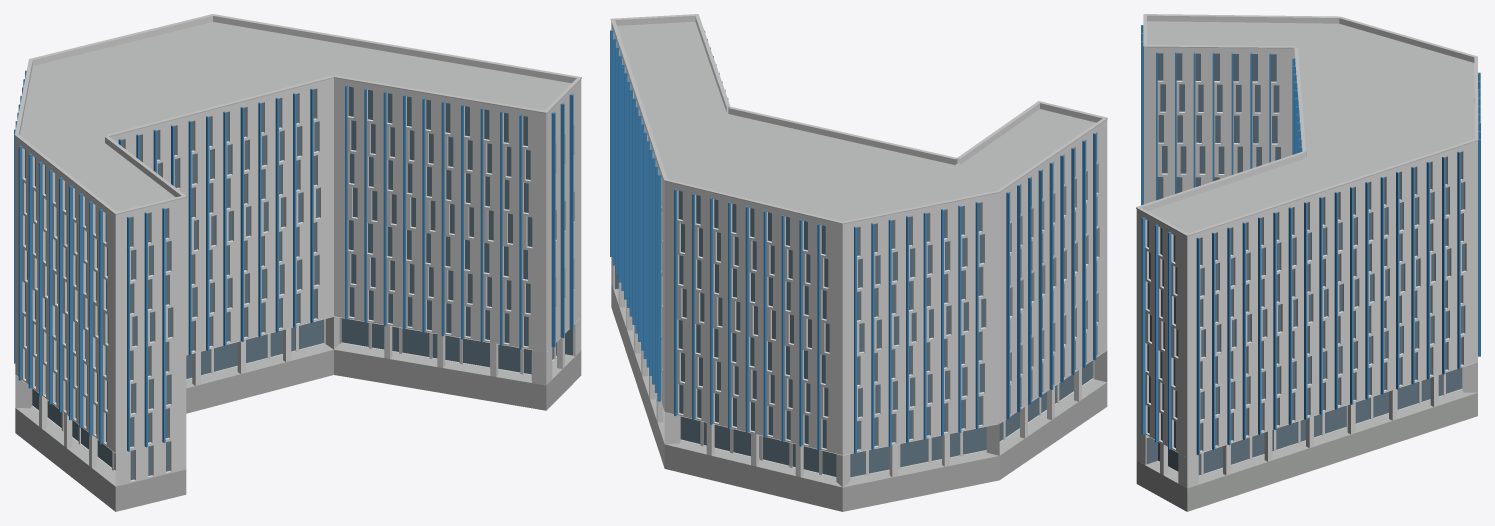
The picture shows the model from 3 angles, left to right: view 1: azimuth 30°, elevation 25°; view 2: azimuth 150°, elevation 25°; view 3: azimuth 270°, elevation 25°; orthographic projection. The views are drawn at different scales.
Visible parts, largest first — view 1: nadlGwanW4_2__wall, nadlGwanW4_2__roof, nadlGwanW4_2__louvre, nadlGwanW4_2__glass, nadlGwanW4_2__base, nadlGwanW4_2__parapet, nadlGwanW4_2__trim, nadlGwanW4_2__column; view 2: nadlGwanW4_2__wall, nadlGwanW4_2__roof, nadlGwanW4_2__louvre, nadlGwanW4_2__glass, nadlGwanW4_2__base, nadlGwanW4_2__parapet, nadlGwanW4_2__trim, nadlGwanW4_2__column; view 3: nadlGwanW4_2__wall, nadlGwanW4_2__roof, nadlGwanW4_2__louvre, nadlGwanW4_2__glass, nadlGwanW4_2__base, nadlGwanW4_2__parapet, nadlGwanW4_2__trim, nadlGwanW4_2__column.
Part boxes in pixels (x1,y1,x2,y2): nadlGwanW4_2__wall: (15, 83, 581, 486); nadlGwanW4_2__roof: (16, 22, 574, 486); nadlGwanW4_2__louvre: (14, 70, 573, 451); nadlGwanW4_2__glass: (25, 86, 573, 479); nadlGwanW4_2__base: (15, 349, 581, 511); nadlGwanW4_2__parapet: (15, 16, 581, 219); nadlGwanW4_2__trim: (14, 14, 581, 214); nadlGwanW4_2__column: (39, 325, 564, 467); nadlGwanW4_2__wall: (611, 25, 1107, 487); nadlGwanW4_2__roof: (614, 21, 1106, 487); nadlGwanW4_2__louvre: (610, 30, 1096, 453); nadlGwanW4_2__glass: (615, 190, 1097, 477); nadlGwanW4_2__base: (611, 283, 1107, 511); nadlGwanW4_2__parapet: (611, 16, 1107, 228); nadlGwanW4_2__trim: (610, 14, 1107, 224); nadlGwanW4_2__column: (618, 282, 1081, 477); nadlGwanW4_2__wall: (1136, 52, 1477, 488); nadlGwanW4_2__roof: (1142, 21, 1477, 484); nadlGwanW4_2__louvre: (1141, 25, 1480, 455); nadlGwanW4_2__glass: (1147, 53, 1464, 475); nadlGwanW4_2__base: (1136, 393, 1477, 511); nadlGwanW4_2__parapet: (1136, 15, 1477, 240); nadlGwanW4_2__trim: (1136, 14, 1478, 236); nadlGwanW4_2__column: (1160, 375, 1438, 475).
Bounding box in the file's own units: 50.88 × 29.5 × 33.35.
